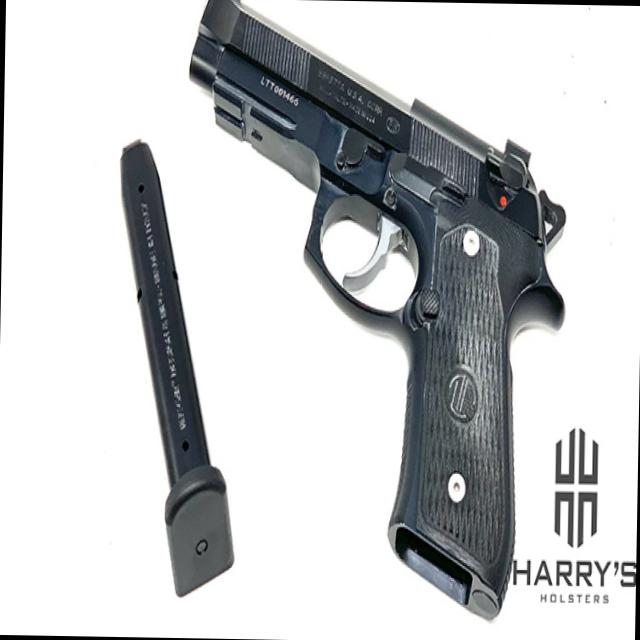Gun: (178, 0, 585, 626)
